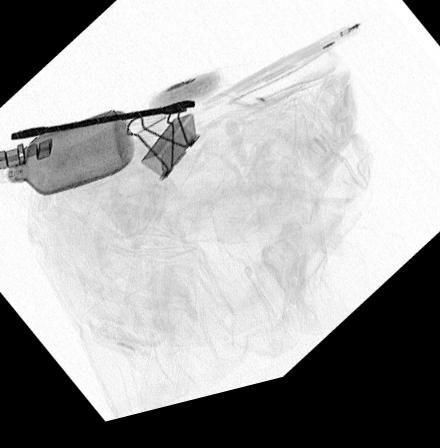Wrench: (11, 109, 194, 141)
